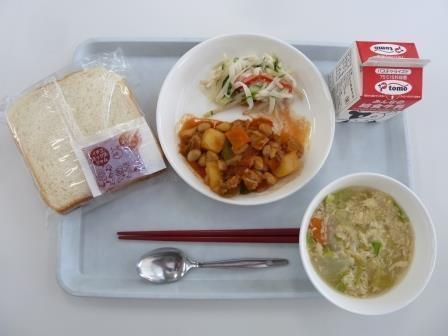Milk: (332, 35, 432, 134)
Salad: (207, 44, 304, 115)
Soups: (162, 114, 315, 210)
White bread: (6, 67, 159, 215)
vegetable soup: (299, 174, 437, 307)
